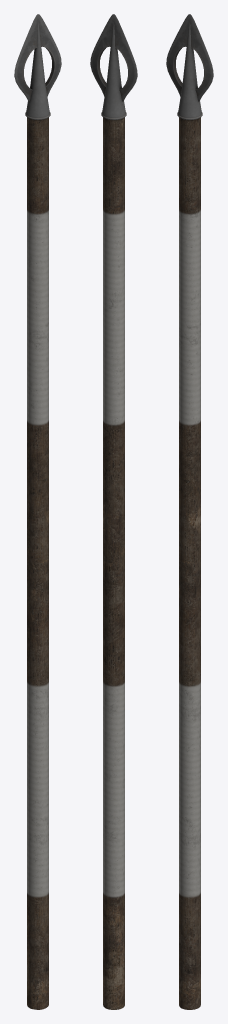
The model's file is Spear 1.fbx.
3 views of the same model, side by side, from view 1: azimuth 30°, elevation 25°; view 2: azimuth 150°, elevation 25°; view 3: azimuth 330°, elevation 25° (orthographic).
Visible parts, largest first — view 1: Spear_1; view 2: Spear_1; view 3: Spear_1.
Boxes of the visible parts, x1=… form: Spear_1: x1=14, y1=14, x2=61, y2=1009; Spear_1: x1=90, y1=14, x2=137, y2=1009; Spear_1: x1=166, y1=14, x2=213, y2=1009.
Size of the model in its own units: 8.48 by 171 by 4.
1 material, 1 textured.
